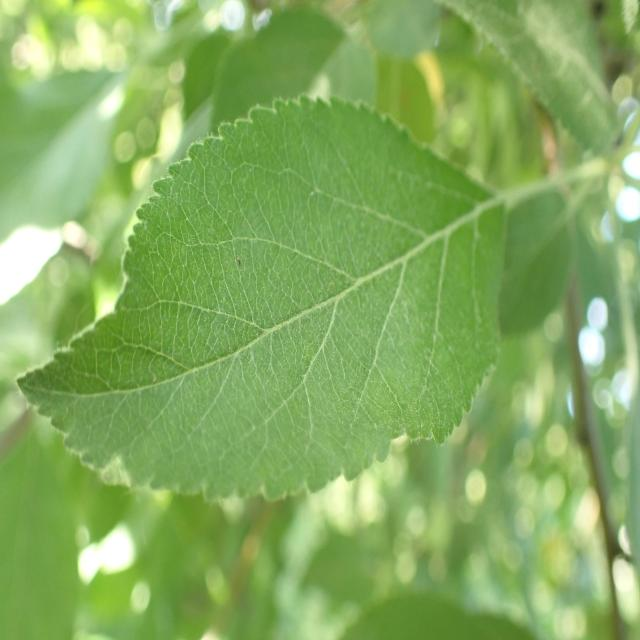healthy: (16, 93, 508, 505), (440, 0, 630, 159)
